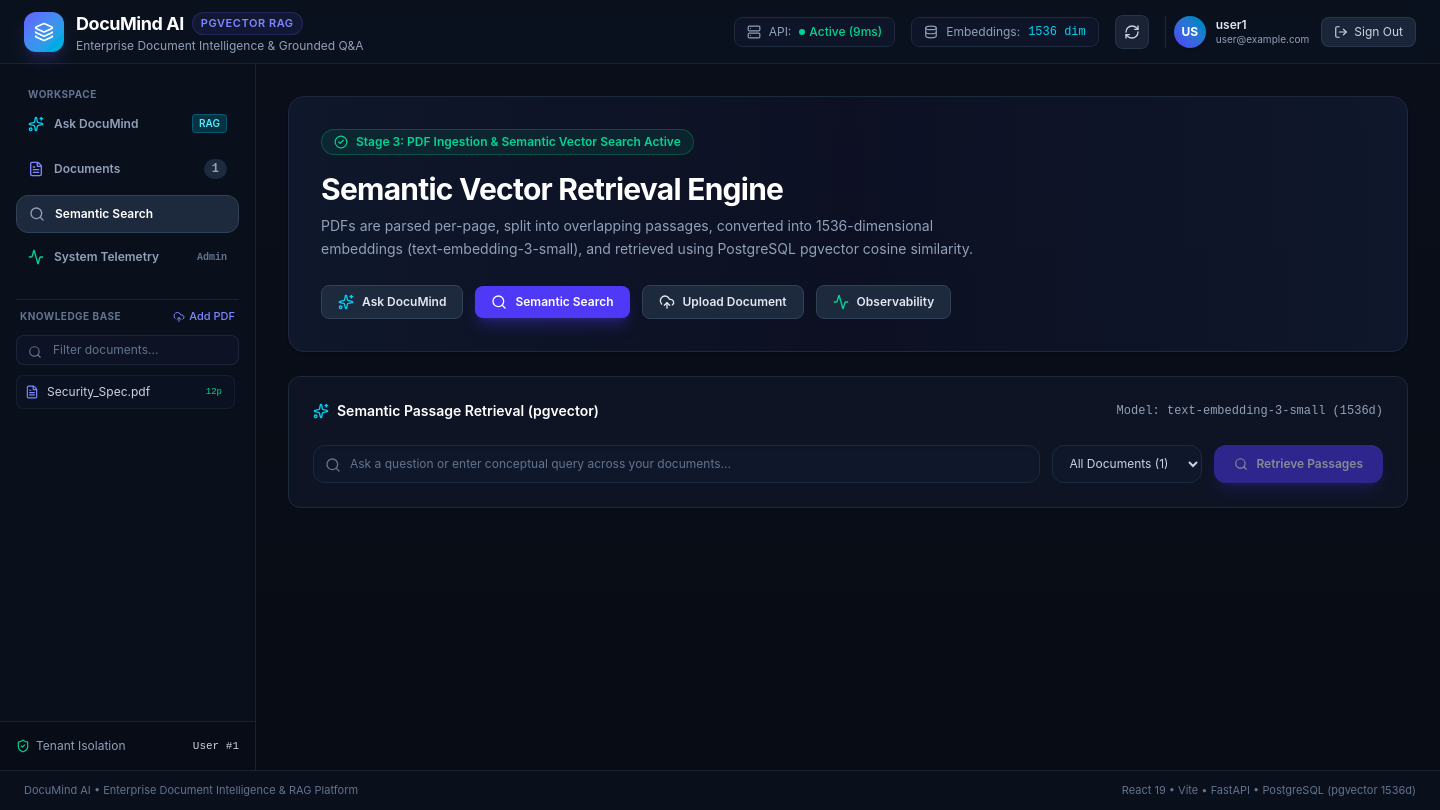
it: Persistent Conversation Integration (Checkpoint B) › 1. loads the authenticated user conversation list in the sidebar
Note: Navigate to Ask DocuMind
What coordinates should you click on to do the following:
click the button "Ask DocuMind RAG"
I would click on:
 (128, 124)
Its box is [16,104,239,143].
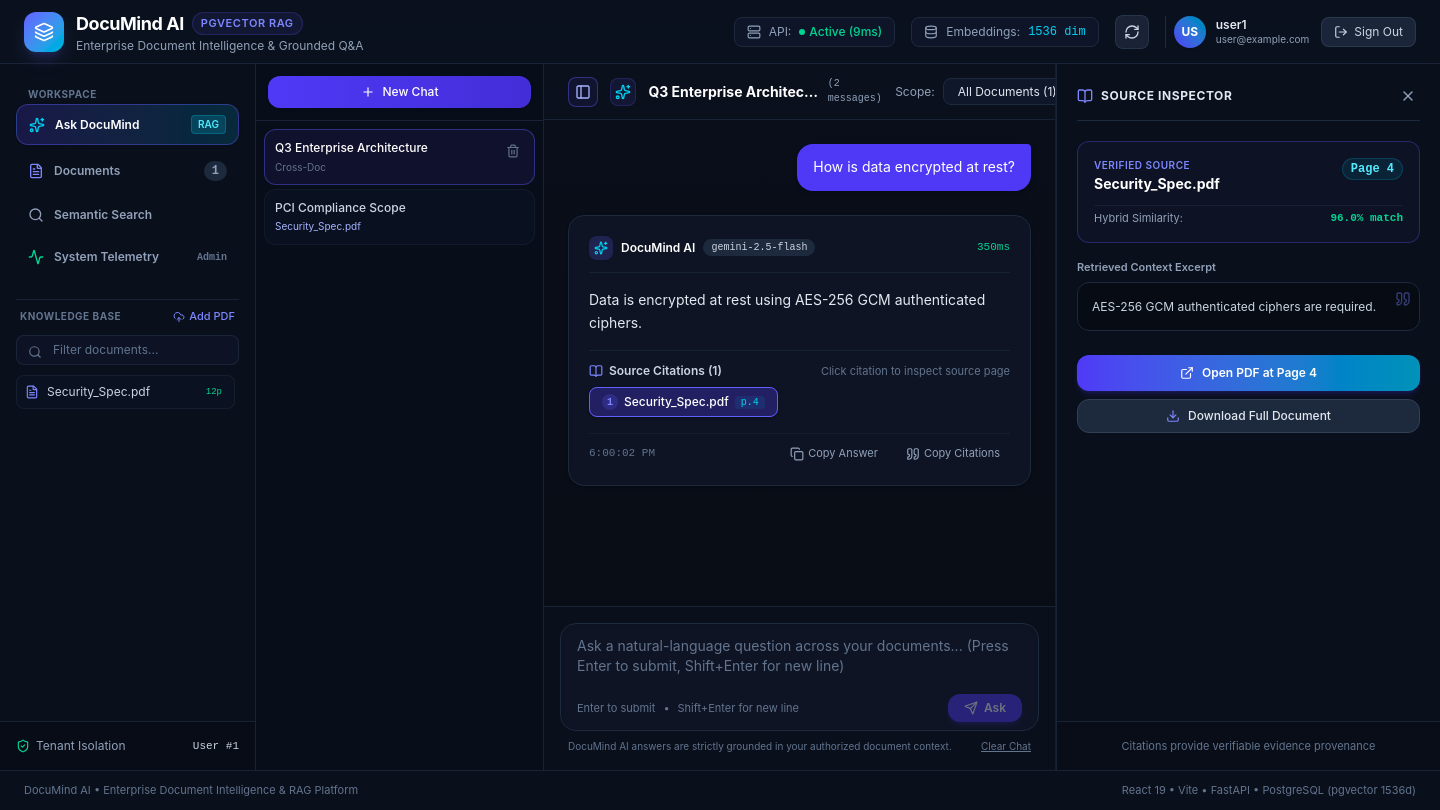
Now the 2nd text "Q3 Enterprise Architecture" is shown, box [275,140,428,155]
Now the text "PCI Compliance Scope" is shown, box [275,200,406,215]
Now the text "Cross-Doc" is shown, box [275,160,326,174]
